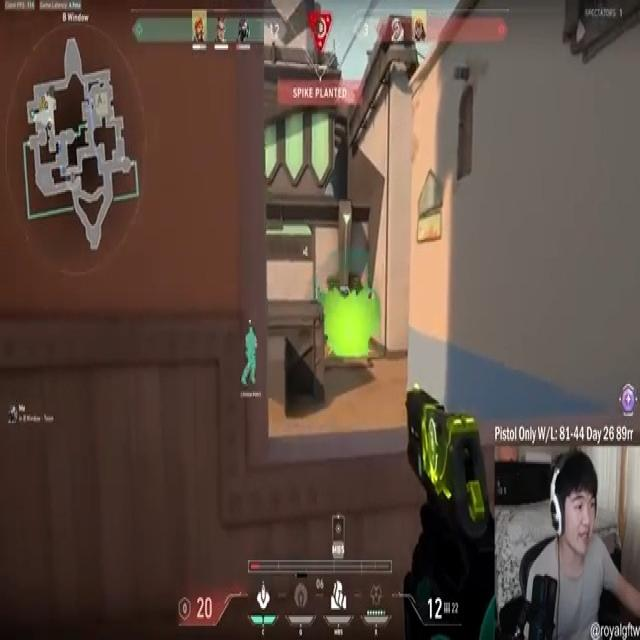ally behind wall: (243, 328, 261, 387)
